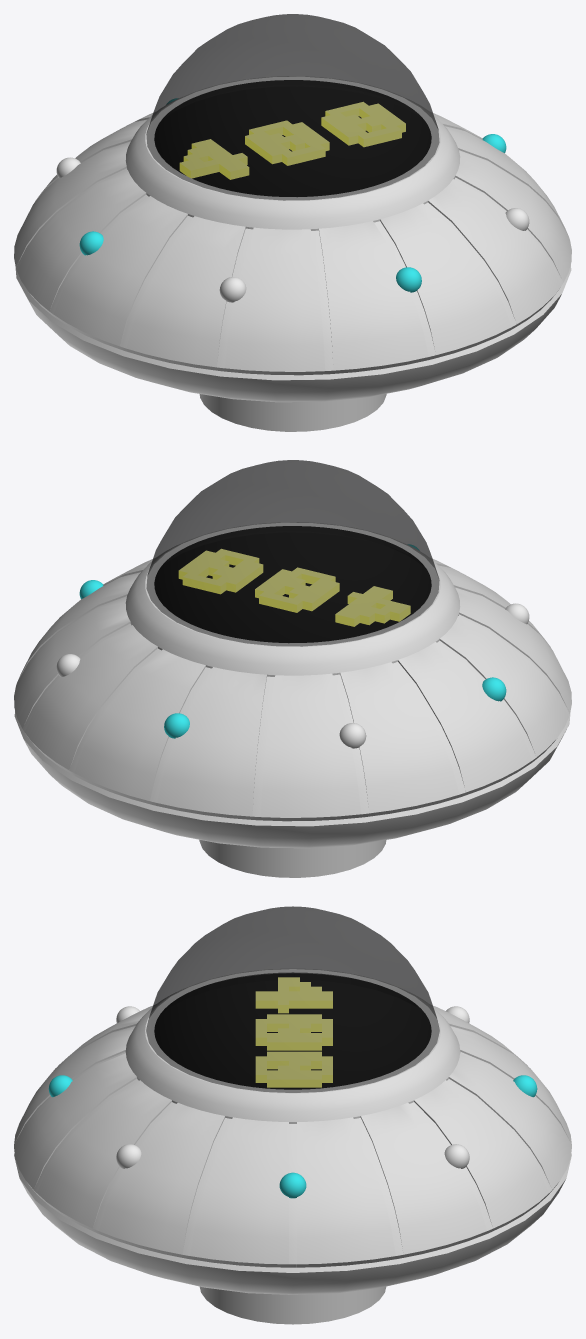
Rendered from 400 bumper.fbx.
3 views of the same model, one above another, from view 1: azimuth 30°, elevation 25°; view 2: azimuth 150°, elevation 25°; view 3: azimuth 270°, elevation 25° (orthographic).
Visible parts, largest first — view 1: Sphere.001, Sphere.025, Circle.002, Text.001; view 2: Sphere.001, Sphere.025, Circle.002, Text.001; view 3: Sphere.001, Sphere.025, Circle.002, Text.001.
Part boxes in pixels (left/top/right/bottom): Sphere.001: left=14, top=76, right=571, bottom=431; Sphere.025: left=146, top=14, right=439, bottom=200; Circle.002: left=154, top=80, right=431, bottom=196; Text.001: left=179, top=102, right=405, bottom=179; Sphere.001: left=14, top=522, right=571, bottom=877; Sphere.025: left=146, top=460, right=439, bottom=646; Circle.002: left=154, top=526, right=431, bottom=642; Text.001: left=178, top=549, right=410, bottom=626; Sphere.001: left=14, top=969, right=571, bottom=1324; Sphere.025: left=146, top=906, right=439, bottom=1092; Circle.002: left=154, top=973, right=431, bottom=1089; Text.001: left=255, top=977, right=332, bottom=1087.
Bounding box in the file's own units: 318 × 229 × 318.
